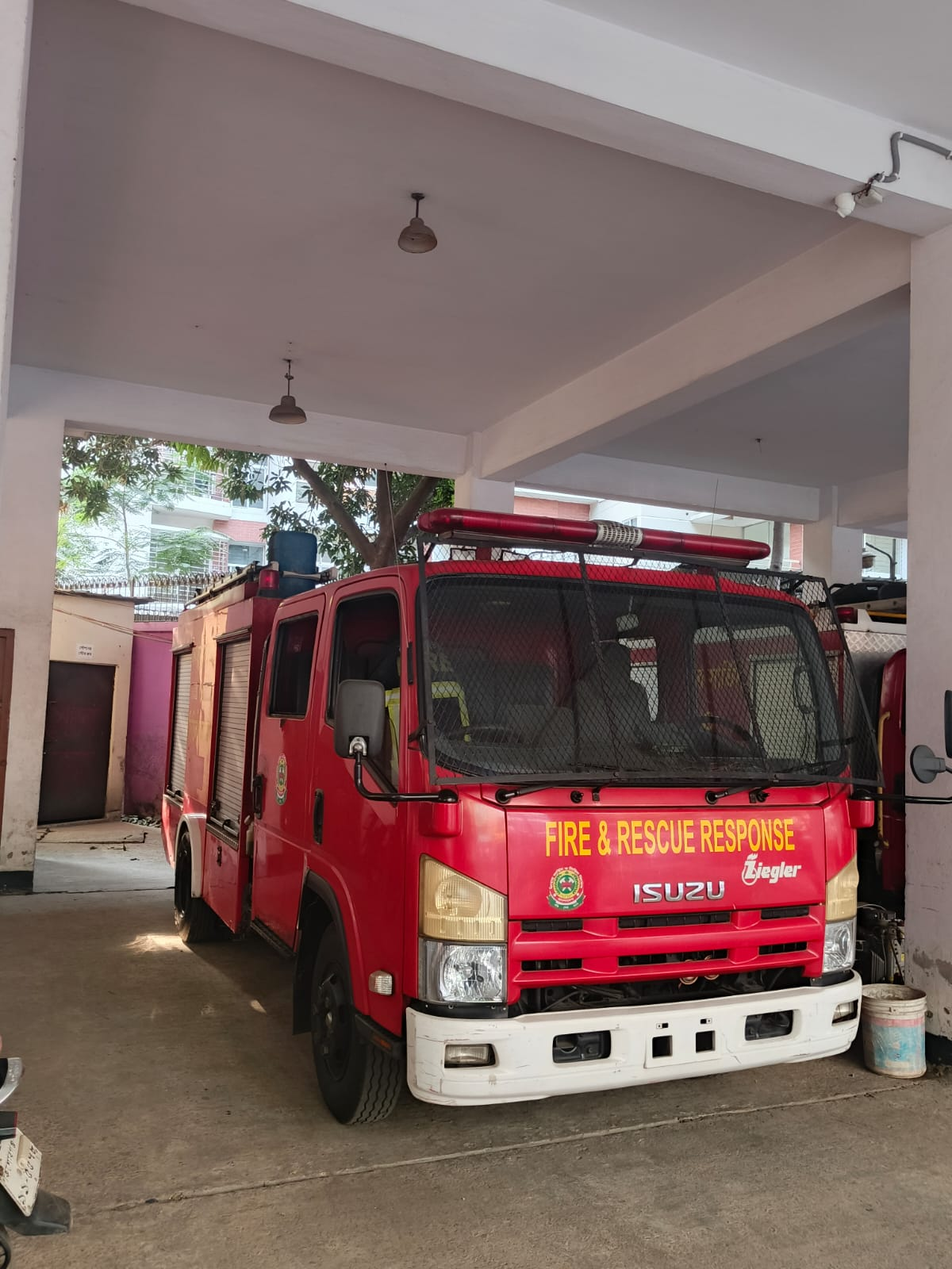Fire truck: (114, 482, 952, 1206)
